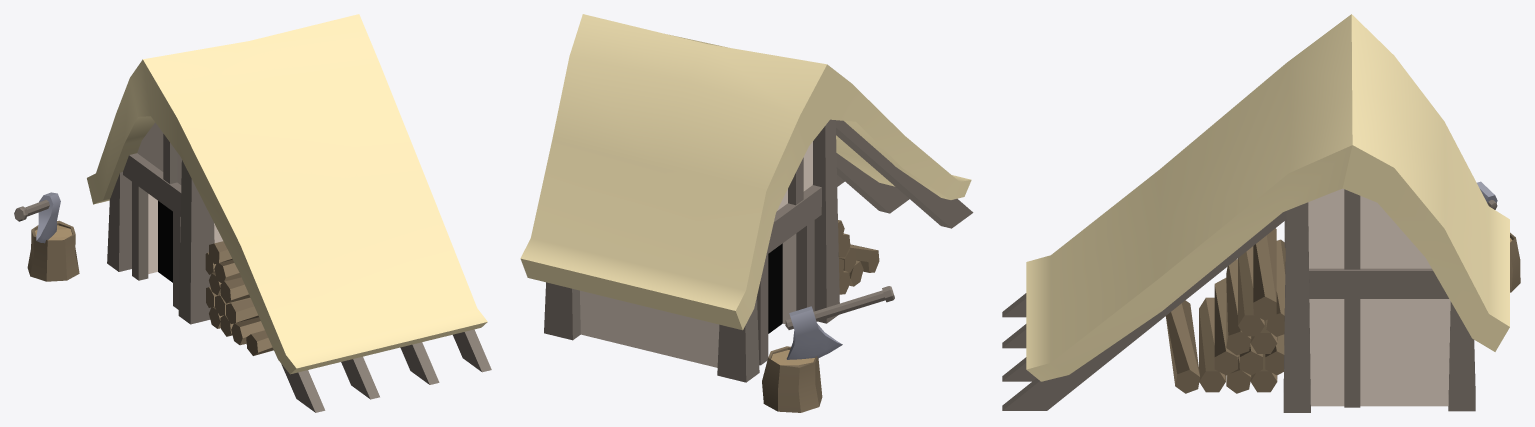
Rendered from bldg-woodcutter-hut.glb.
The picture shows the model from 3 angles, left to right: view 1: azimuth 30°, elevation 25°; view 2: azimuth 150°, elevation 25°; view 3: azimuth 270°, elevation 25°; orthographic projection. The views are drawn at different scales.
Parts seen in each view (by area): view 1: MESH_WoodcutterHut; view 2: MESH_WoodcutterHut; view 3: MESH_WoodcutterHut.
Boxes of the visible parts, box(x1,y1,x2,y2) form: MESH_WoodcutterHut: box(14, 14, 491, 412); MESH_WoodcutterHut: box(520, 14, 973, 412); MESH_WoodcutterHut: box(1002, 14, 1520, 412).
Bounding box in the file's own units: 3.27 × 2.5 × 4.09.
